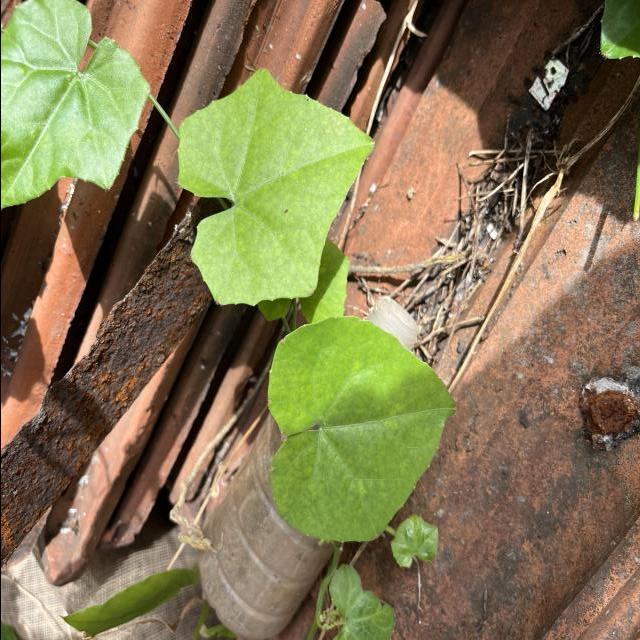Coccinia grandis: (174, 66, 376, 308), (264, 314, 458, 545)
